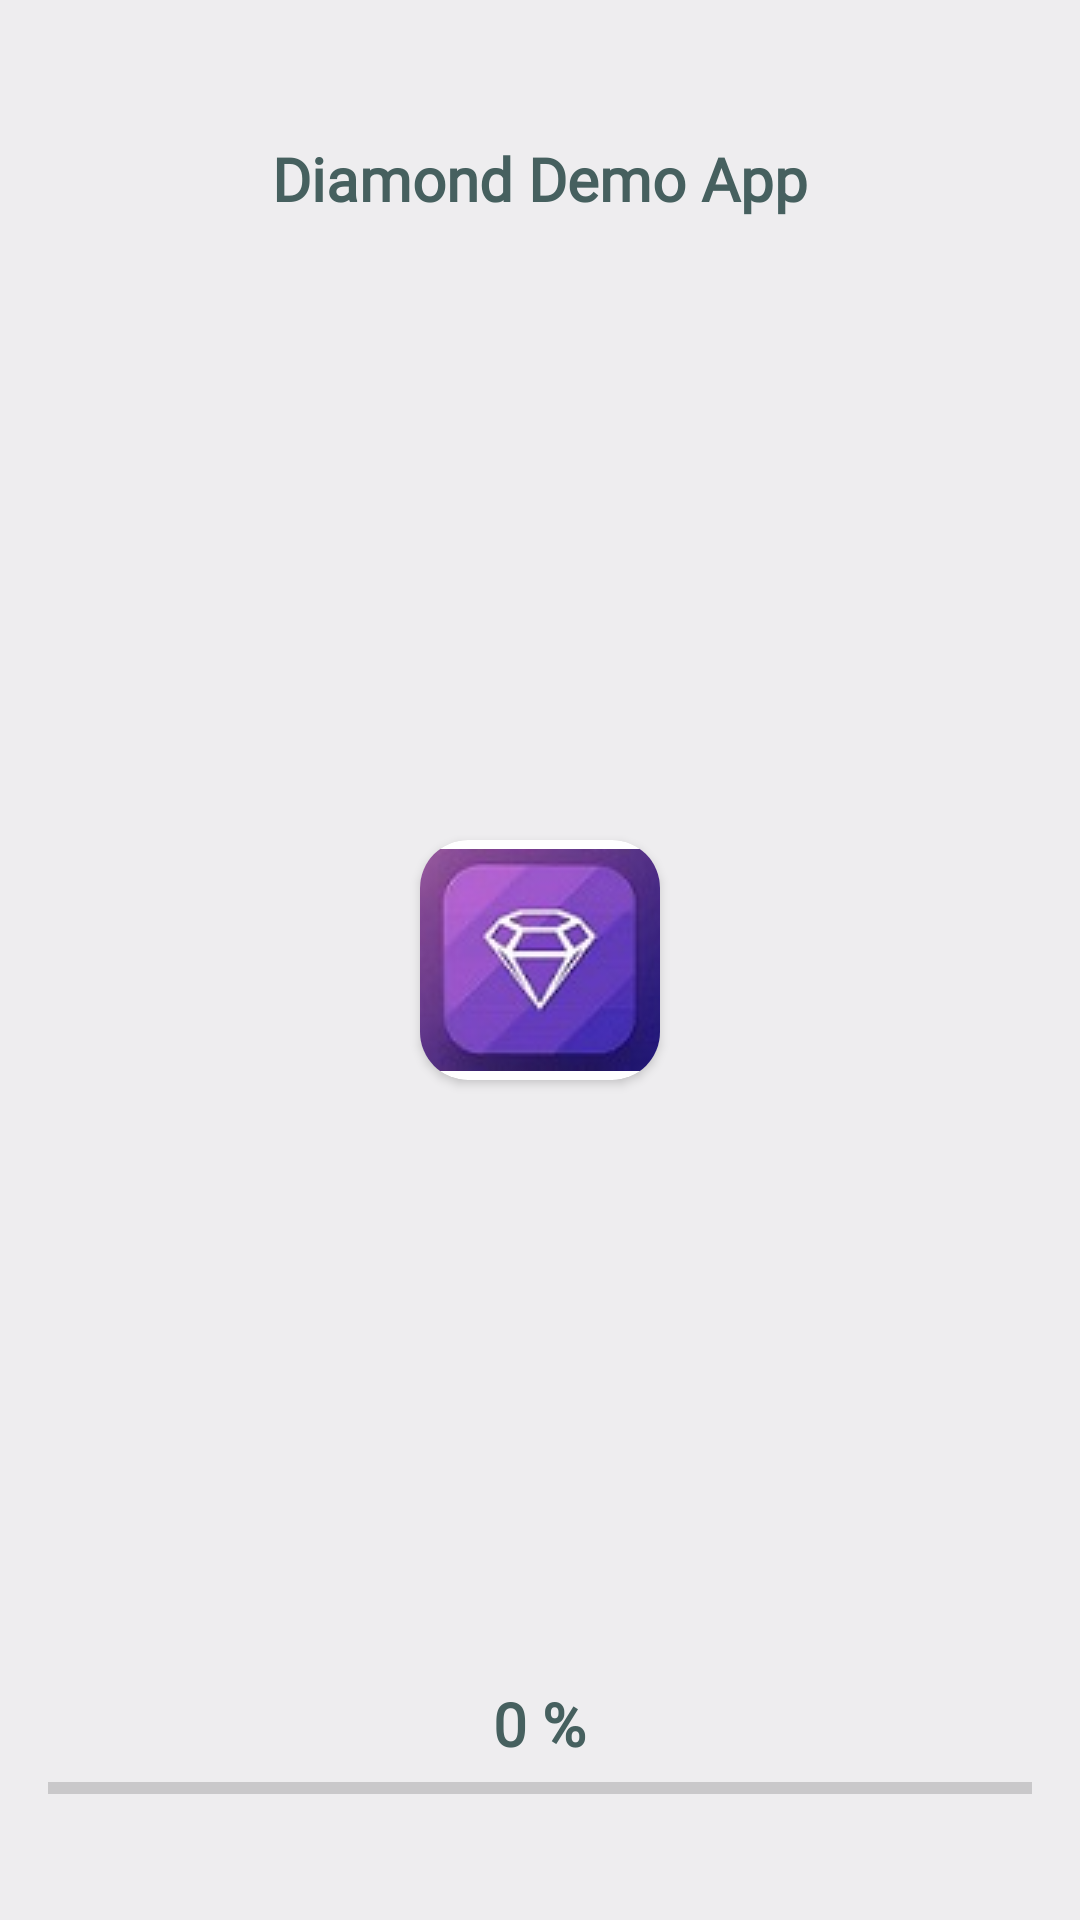

Icons on this 1080px×1920px Android screen, each with the point to tap as (x,y):
diamondapp: (540,964)
